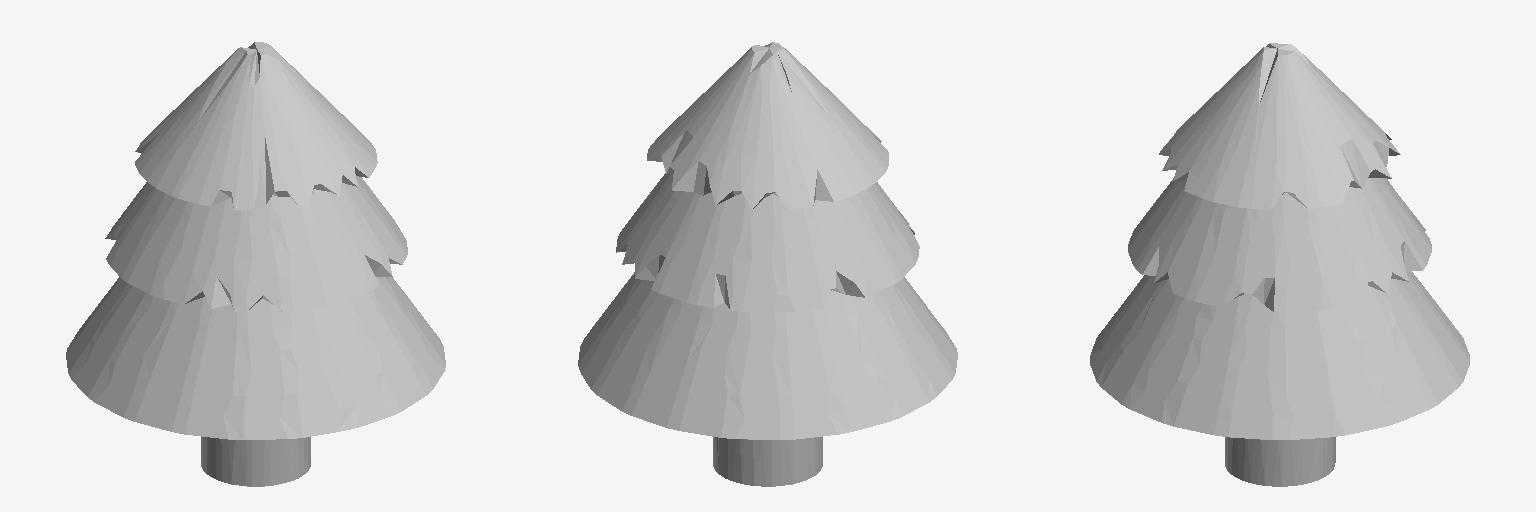
File: treeModel.obj
3 views of the same model, side by side, from view 1: azimuth 30°, elevation 25°; view 2: azimuth 150°, elevation 25°; view 3: azimuth 270°, elevation 25° (orthographic).
Visible parts, largest first — view 1: pCylinder5; view 2: pCylinder5; view 3: pCylinder5.
Part boxes in pixels (x1,y1,x2,y2): pCylinder5: (66,42,445,486); pCylinder5: (578,42,957,486); pCylinder5: (1090,43,1469,486).
Size of the model in its own units: 3.83 by 4.6 by 3.83.